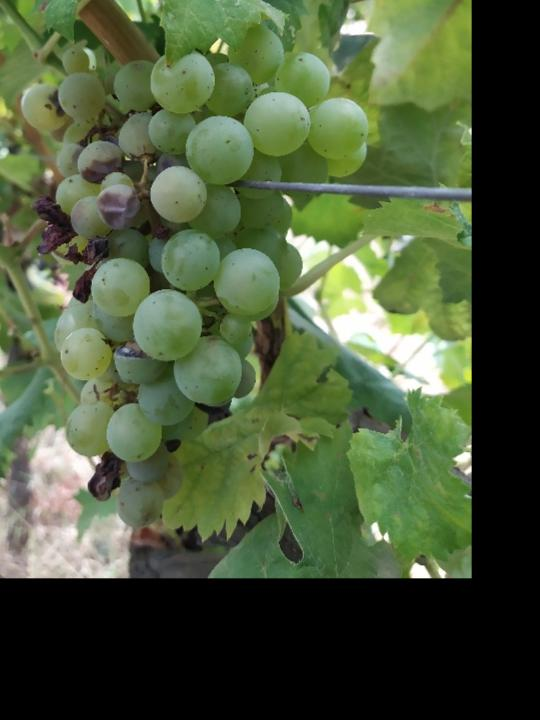grape: (19, 20, 372, 530)
